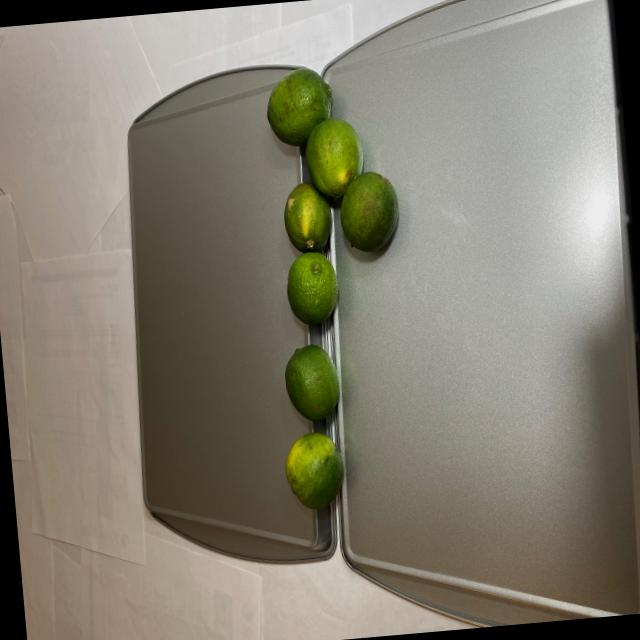lemon: (248, 59, 424, 530)
